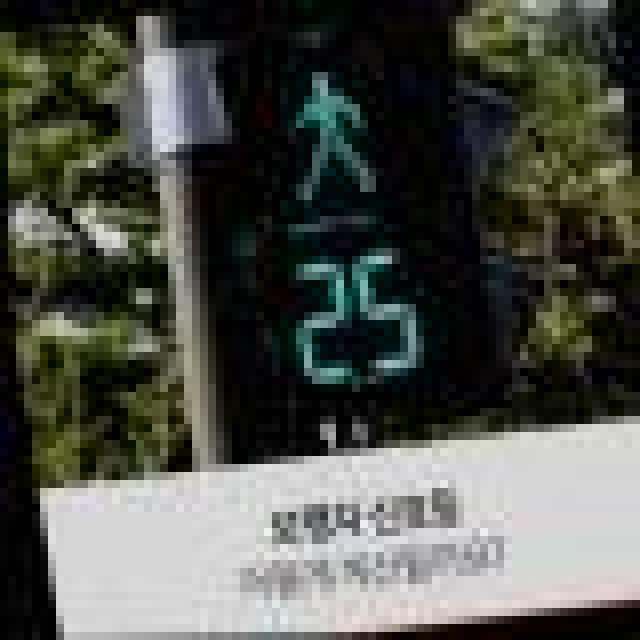greenlight: (256, 0, 440, 232)
